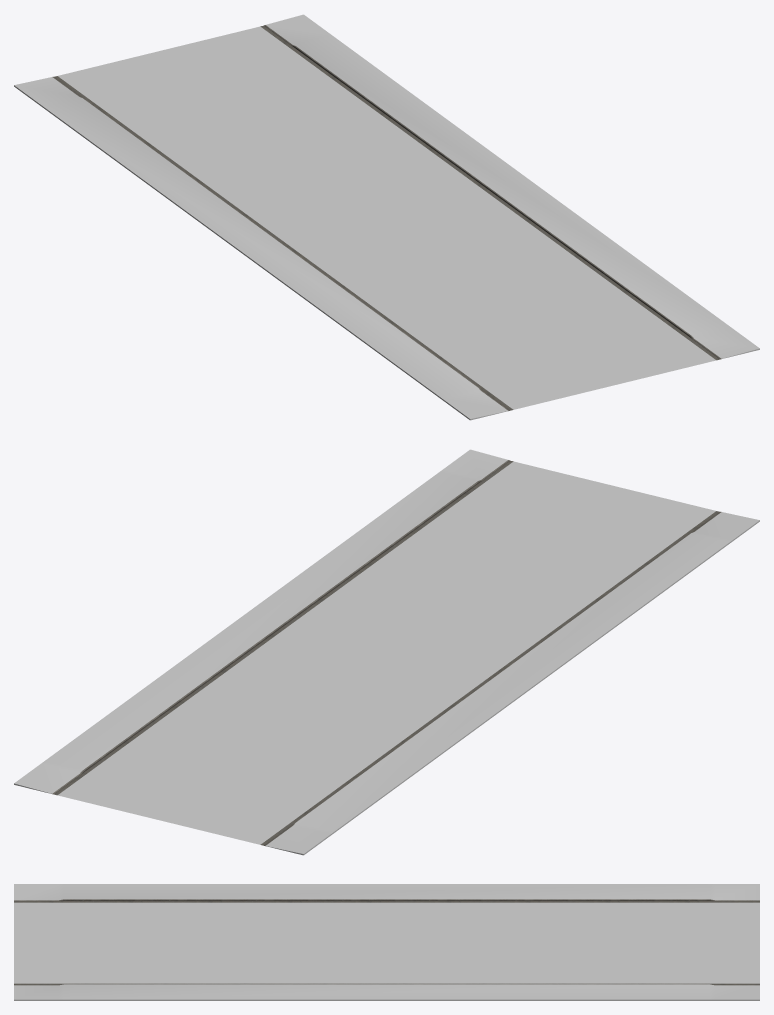
Rendered from jcRoad22mA.fbx.
3 renders of one model, top to bottom at view 1: azimuth 30°, elevation 25°; view 2: azimuth 150°, elevation 25°; view 3: azimuth 270°, elevation 25°, orthographic. The views are drawn at different scales.
Visible parts, largest first — view 1: jcRoad22mA; view 2: jcRoad22mA; view 3: jcRoad22mA.
Boxes of the visible parts, x1=… form: jcRoad22mA: x1=14, y1=14, x2=759, y2=420; jcRoad22mA: x1=14, y1=449, x2=759, y2=855; jcRoad22mA: x1=14, y1=884, x2=759, y2=1000.
Bounding box in the file's own units: 2200 × 10 × 6000.
